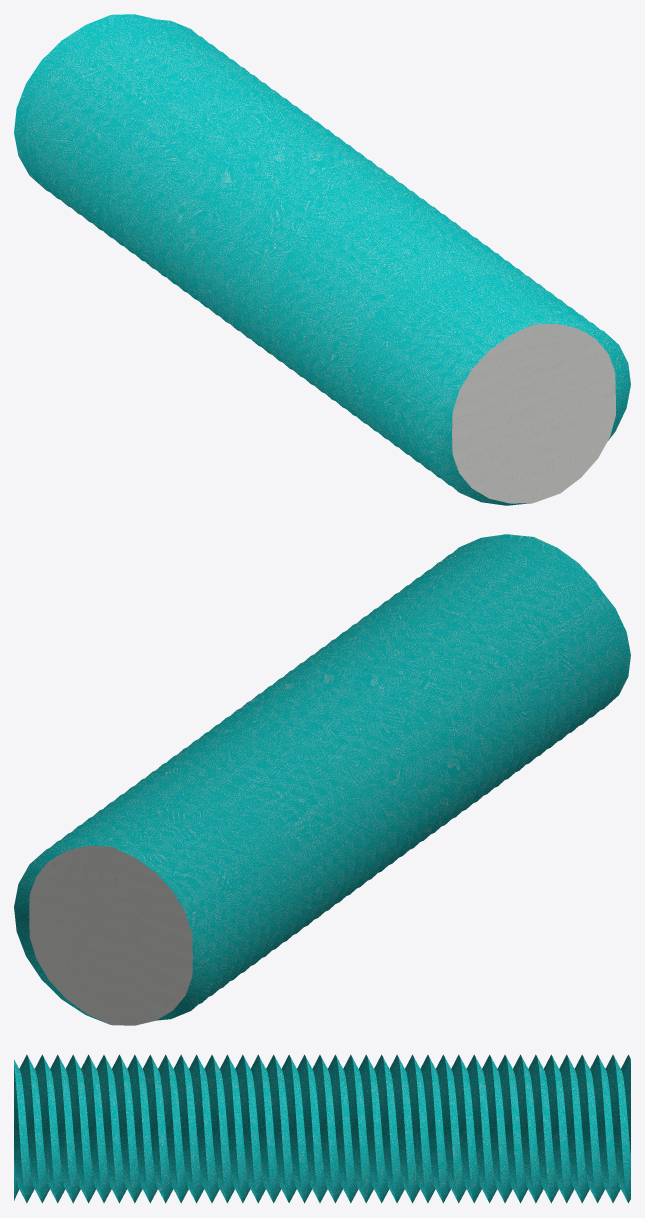
File: original-29.obj
3 views of the same model, one above another, from view 1: azimuth 30°, elevation 25°; view 2: azimuth 150°, elevation 25°; view 3: azimuth 270°, elevation 25° (orthographic). The views are drawn at different scales.
Parts seen in each view (by area): view 1: Component_3_2/Component_3/mesh39/mesh39-geometry#mesh39-geometry; view 2: Component_3_2/Component_3/mesh39/mesh39-geometry#mesh39-geometry; view 3: Component_3_2/Component_3/mesh39/mesh39-geometry#mesh39-geometry.
Part boxes in pixels (x1=…): Component_3_2/Component_3/mesh39/mesh39-geometry#mesh39-geometry: x1=14, y1=14, x2=630, y2=505; Component_3_2/Component_3/mesh39/mesh39-geometry#mesh39-geometry: x1=14, y1=534, x2=630, y2=1025; Component_3_2/Component_3/mesh39/mesh39-geometry#mesh39-geometry: x1=14, y1=1054, x2=630, y2=1203.
Size of the model in its own units: 0.00923 by 0.00769 by 0.033.
